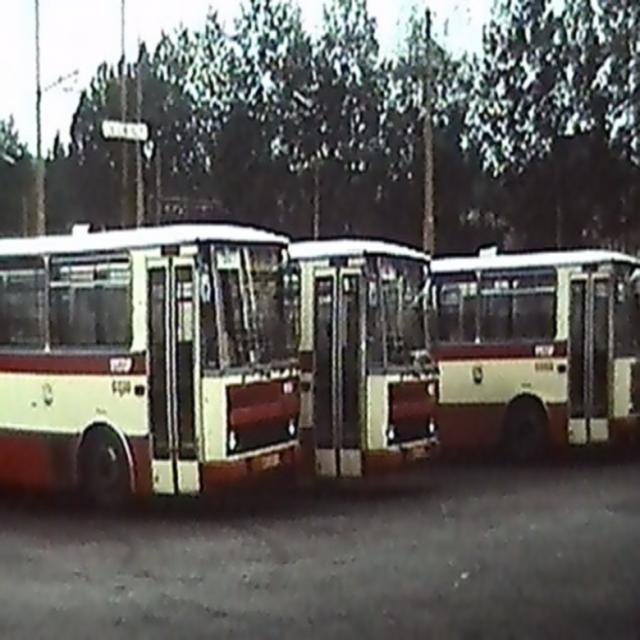bus: (0, 226, 301, 521), (434, 251, 639, 461), (287, 243, 439, 494)
